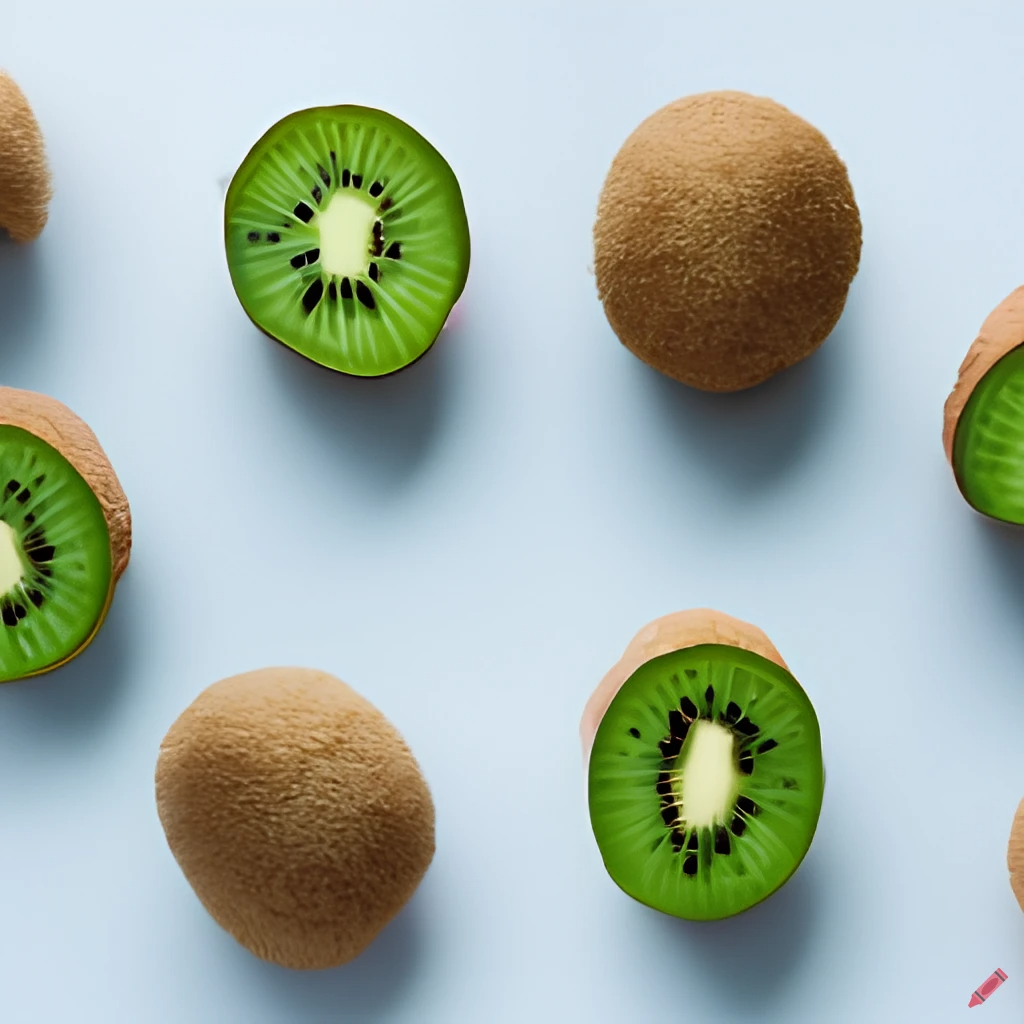Kiwi: (139, 615, 447, 1010), (550, 66, 888, 414)
